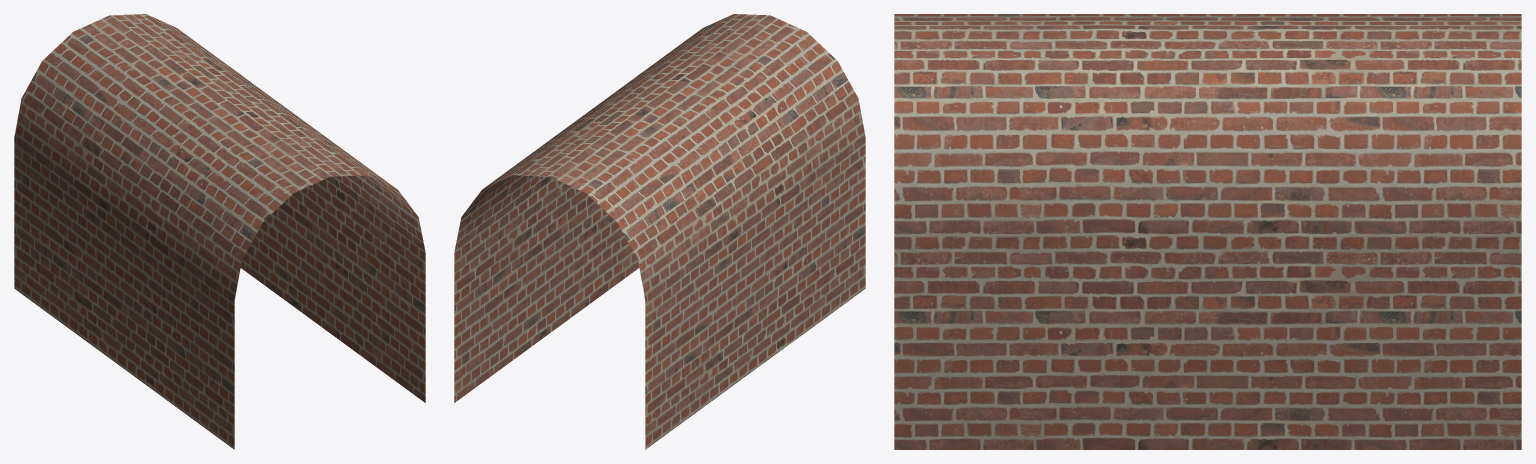
Rendered from tunnel-cellar.fbx.
The picture shows the model from 3 angles, left to right: view 1: azimuth 30°, elevation 25°; view 2: azimuth 150°, elevation 25°; view 3: azimuth 270°, elevation 25°; orthographic projection. The views are drawn at different scales.
Parts seen in each view (by area): view 1: tunnel-cellar; view 2: tunnel-cellar; view 3: tunnel-cellar.
Part boxes in pixels (box(x1,y1,x2,y2)): tunnel-cellar: box(14, 14, 425, 449); tunnel-cellar: box(454, 14, 865, 449); tunnel-cellar: box(894, 14, 1521, 449).
Size of the model in its own units: 200 by 400 by 250.
